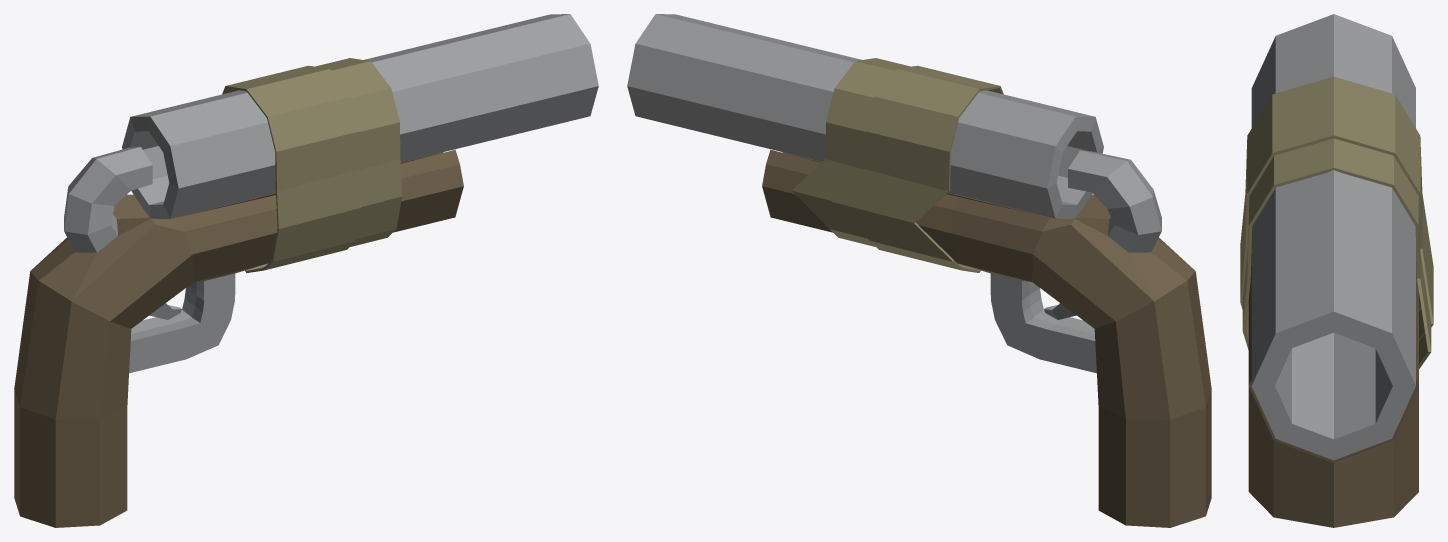
File: gun.fbx
3 renders of one model, left to right at view 1: azimuth 30°, elevation 25°; view 2: azimuth 150°, elevation 25°; view 3: azimuth 270°, elevation 25°, orthographic. The views are drawn at different scales.
Parts seen in each view (by area): view 1: Cylinder; view 2: Cylinder; view 3: Cylinder.
Boxes of the visible parts, <box> form: Cylinder: <box>14,14,598,527</box>; Cylinder: <box>627,14,1211,527</box>; Cylinder: <box>1240,14,1433,527</box>.
Size of the model in its own units: 823 by 531 by 173.
